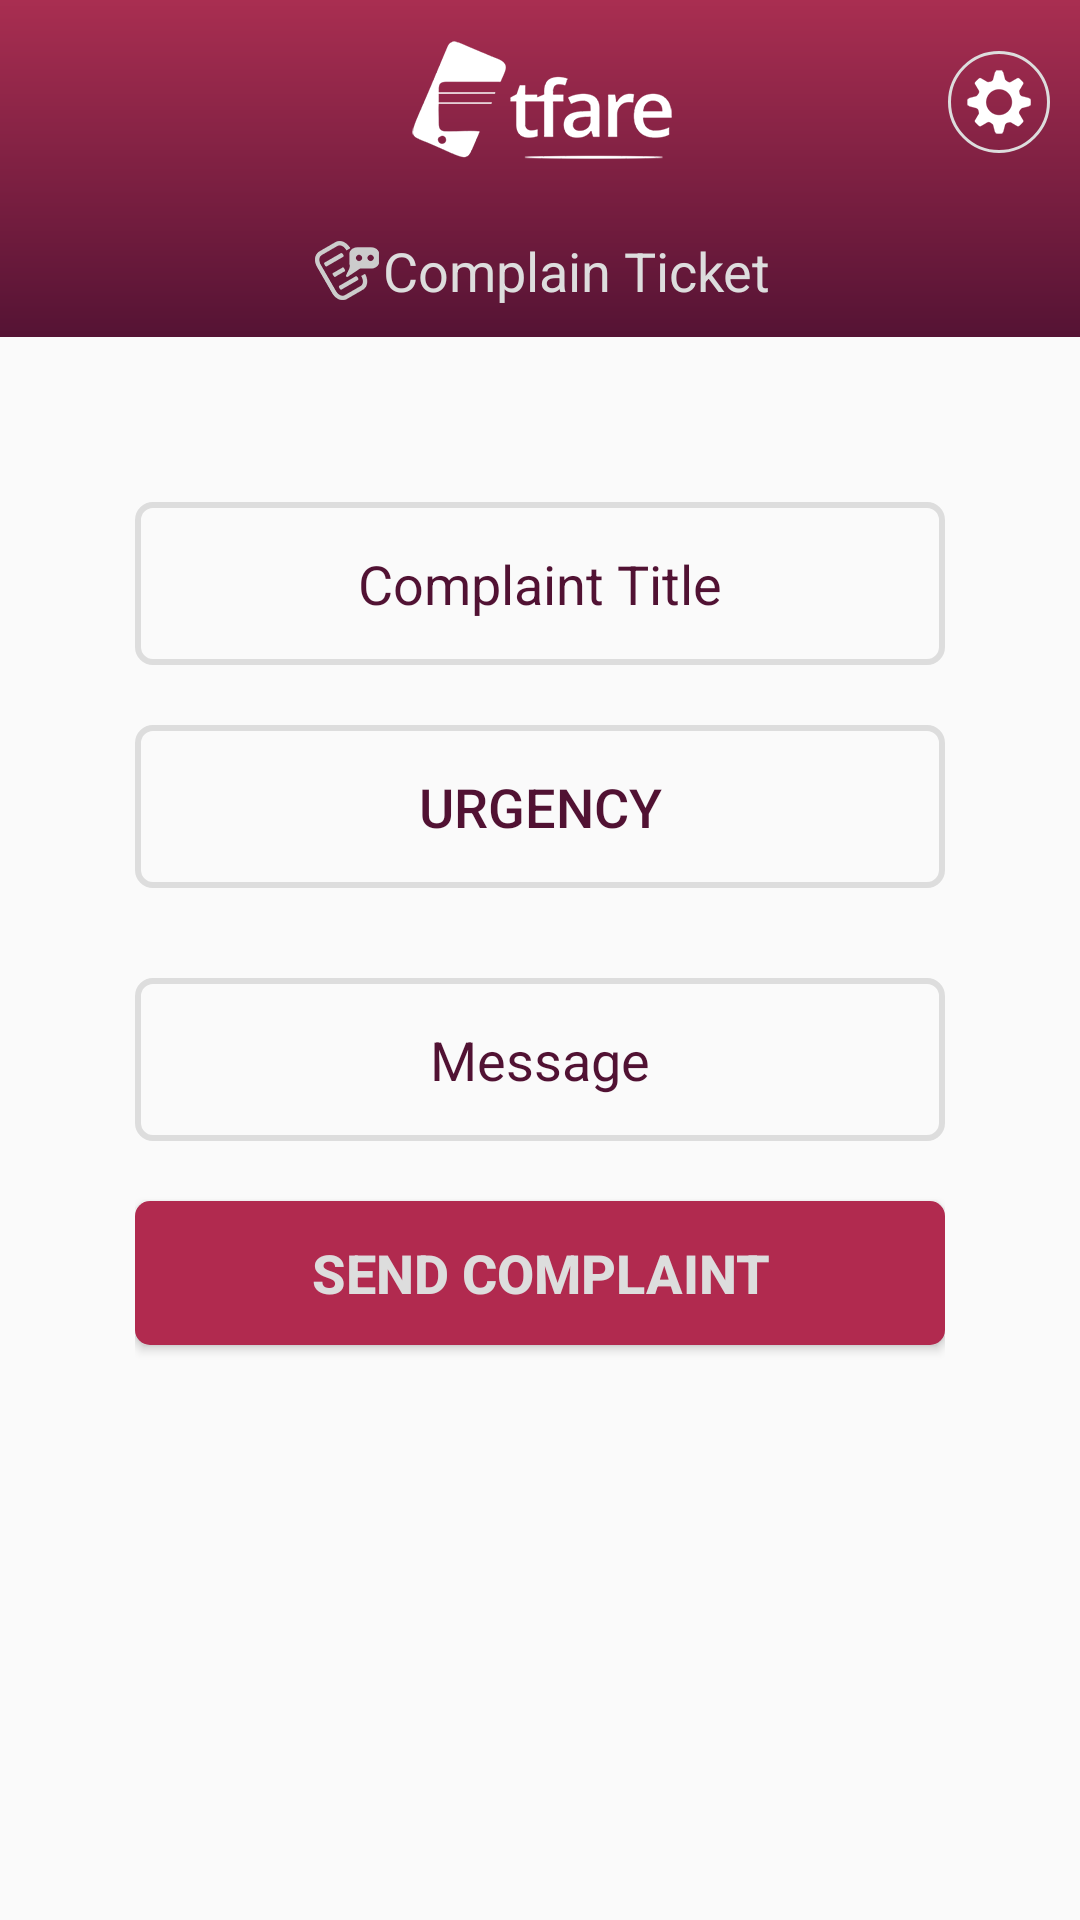

Locate icon controls on the screen. Image size 1080*1920, boxes as (x1=x1, y1=y1, x2=x2, y2=y2).
settings: (x1=948, y1=51, x2=1050, y2=153)
